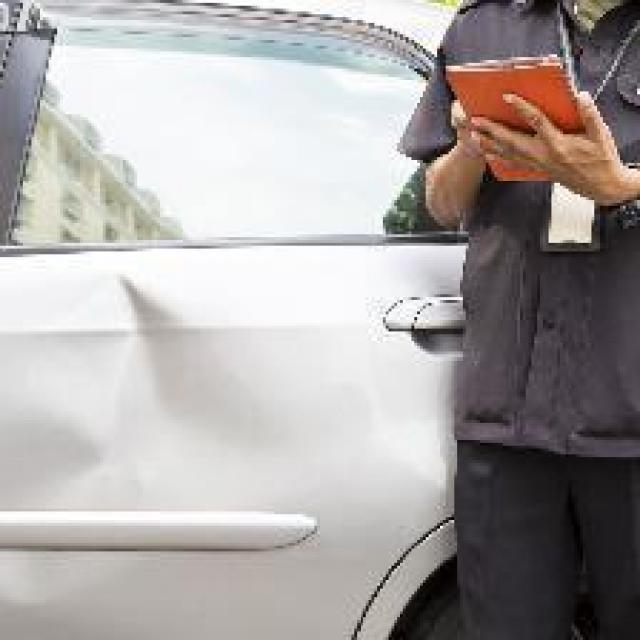damaged: (0, 268, 326, 506)
